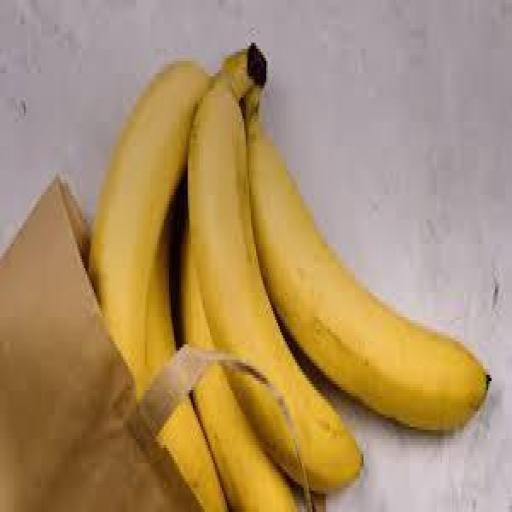banana: (245, 89, 489, 429), (188, 80, 361, 490), (89, 61, 209, 396)
